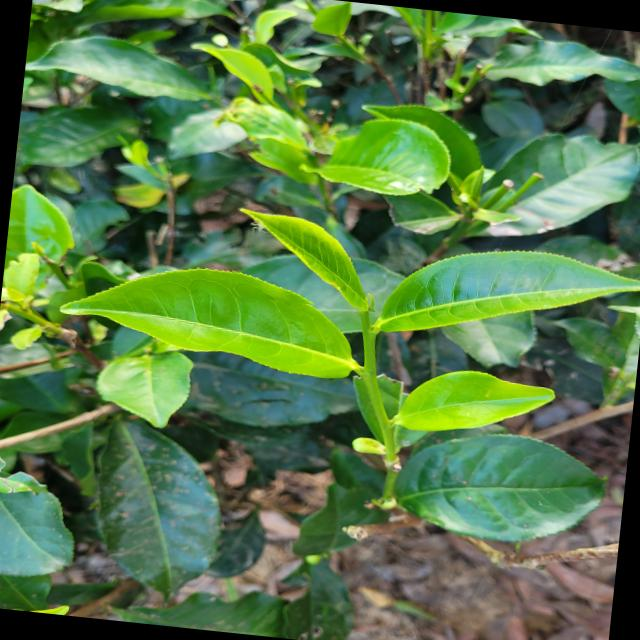Catagory A(1-2 days): (225, 203, 392, 313)
